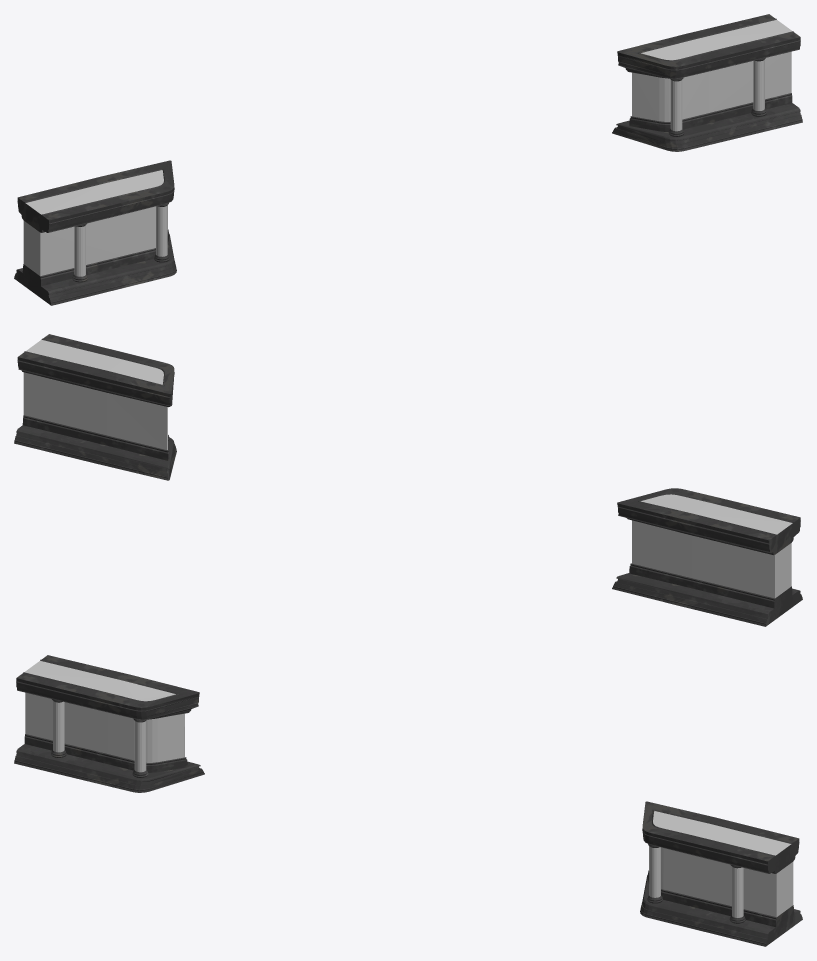
The model's file is AlcoveLanding_01_Lod0.fbx.
3 renders of one model, top to bottom at view 1: azimuth 30°, elevation 25°; view 2: azimuth 150°, elevation 25°; view 3: azimuth 330°, elevation 25°, orthographic.
Visible parts, largest first — view 1: S_Sunforged_AlcoveLanding_01.mo; view 2: S_Sunforged_AlcoveLanding_01.mo; view 3: S_Sunforged_AlcoveLanding_01.mo.
Boxes of the visible parts, box(x1,y1,x2,y2) form: S_Sunforged_AlcoveLanding_01.mo: box(14, 14, 802, 305); S_Sunforged_AlcoveLanding_01.mo: box(14, 334, 802, 626); S_Sunforged_AlcoveLanding_01.mo: box(14, 655, 802, 946).
Size of the model in its own units: 1080 by 117 by 93.13.
